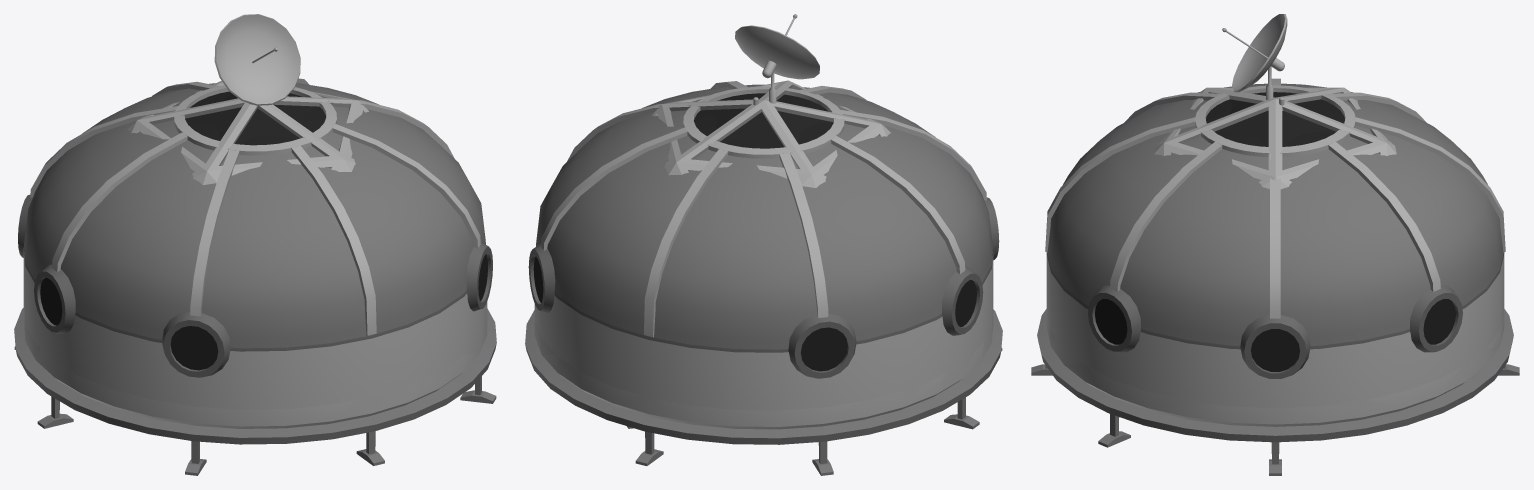
3 renders of one model, left to right at view 1: azimuth 30°, elevation 25°; view 2: azimuth 150°, elevation 25°; view 3: azimuth 270°, elevation 25°, orthographic.
Visible parts, largest first — view 1: Base_Large, GeodesicDome, Roof_Radar; view 2: Base_Large, GeodesicDome, Roof_Radar; view 3: Base_Large, GeodesicDome, Roof_Radar.
Boxes of the visible parts, x1,y1,x2,y2 form: Base_Large: [18, 78, 492, 426]; GeodesicDome: [14, 81, 496, 475]; Roof_Radar: [214, 14, 300, 105]; Base_Large: [528, 81, 999, 426]; GeodesicDome: [525, 80, 1002, 475]; Roof_Radar: [735, 14, 819, 105]; Base_Large: [1045, 78, 1505, 423]; GeodesicDome: [1031, 87, 1519, 475]; Roof_Radar: [1222, 14, 1287, 110].
Bounding box in the file's own units: 8.53 × 6.78 × 8.53.
1 material, 1 textured.
